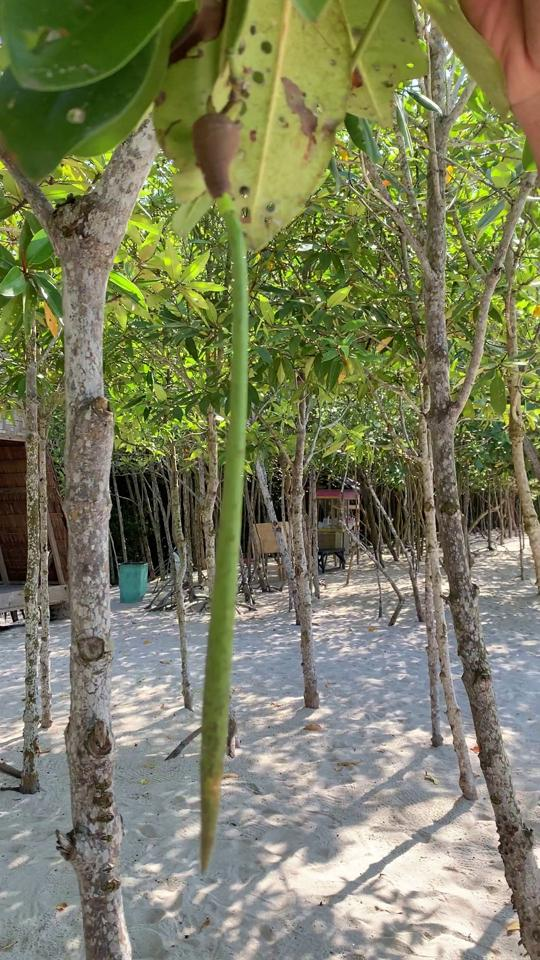setengah matang: (172, 82, 261, 880)
